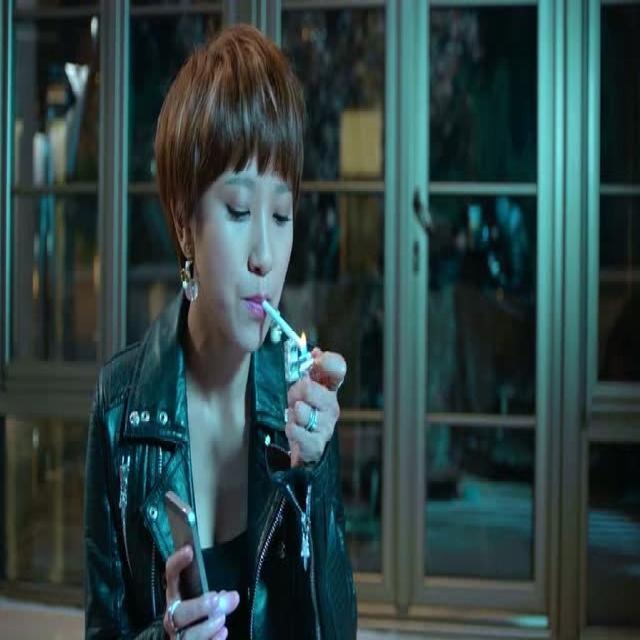smoking: (224, 279, 344, 399)
